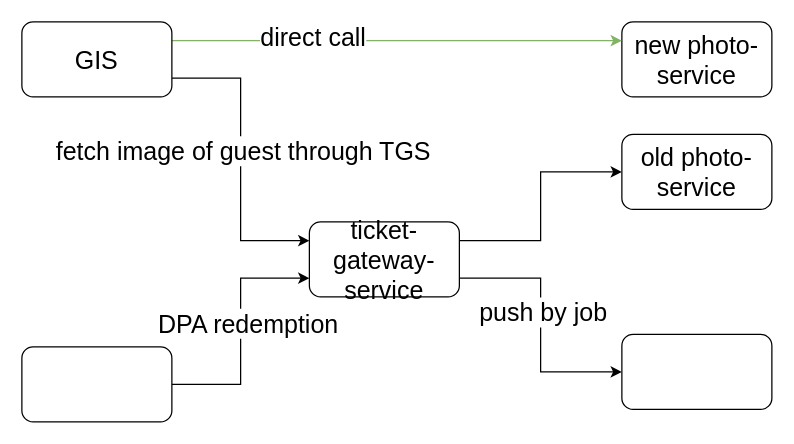
Some shapes in this 794 by 444 pixel diagram are drawn without their labels. Each missing label, with the centre of its shape:
"GXP" belongs at point 96,384.
"tcon" belongs at point 696,371.
